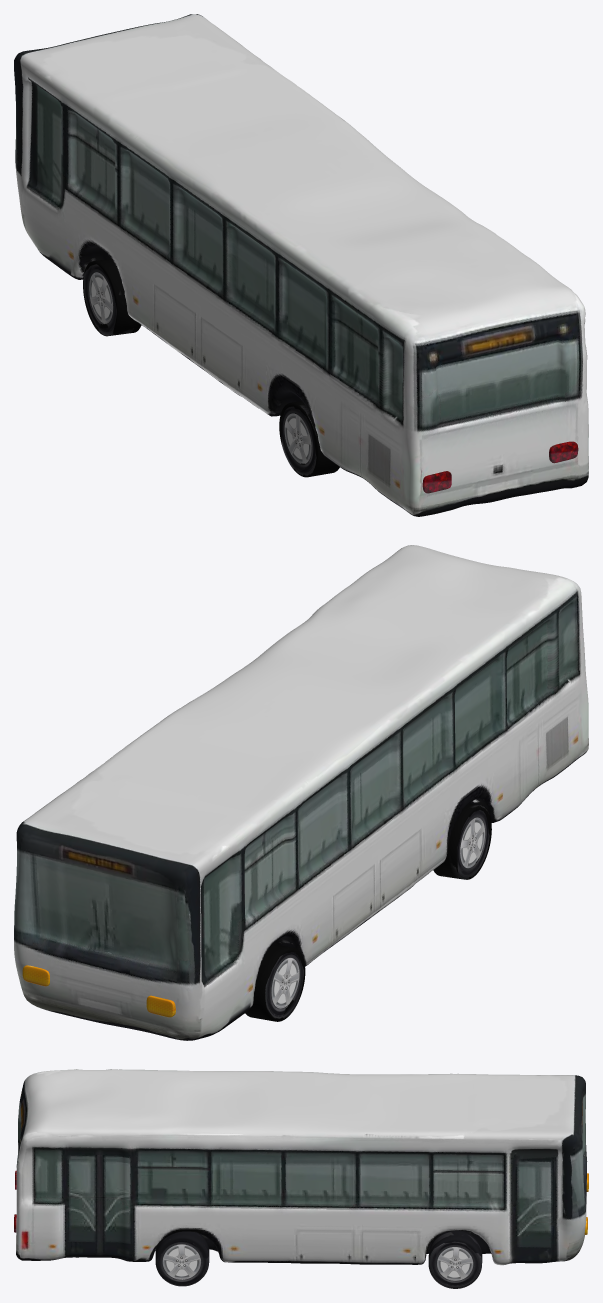
The model's file is bus_4ef317.glb.
3 views of the same model, one above another, from view 1: azimuth 30°, elevation 25°; view 2: azimuth 150°, elevation 25°; view 3: azimuth 270°, elevation 25° (orthographic). The views are drawn at different scales.
Visible parts, largest first — view 1: body, wheel_fl, wheel_rl; view 2: body, wheel_fl, wheel_rl; view 3: body, wheel_fr, wheel_rr.
Boxes of the visible parts, x1=… form: body: x1=14, y1=14, x2=588, y2=516; wheel_fl: x1=83, y1=259, x2=141, y2=336; wheel_rl: x1=279, y1=401, x2=339, y2=477; body: x1=14, y1=545, x2=588, y2=1040; wheel_fl: x1=245, y1=944, x2=305, y2=1021; wheel_rl: x1=433, y1=803, x2=491, y2=879; body: x1=14, y1=1069, x2=588, y2=1265; wheel_fr: x1=428, y1=1230, x2=482, y2=1288; wheel_rr: x1=155, y1=1231, x2=209, y2=1286.
Size of the model in its own units: 2.7 by 3.12 by 10.2.
Materials: 7 (7 with a texture image).
